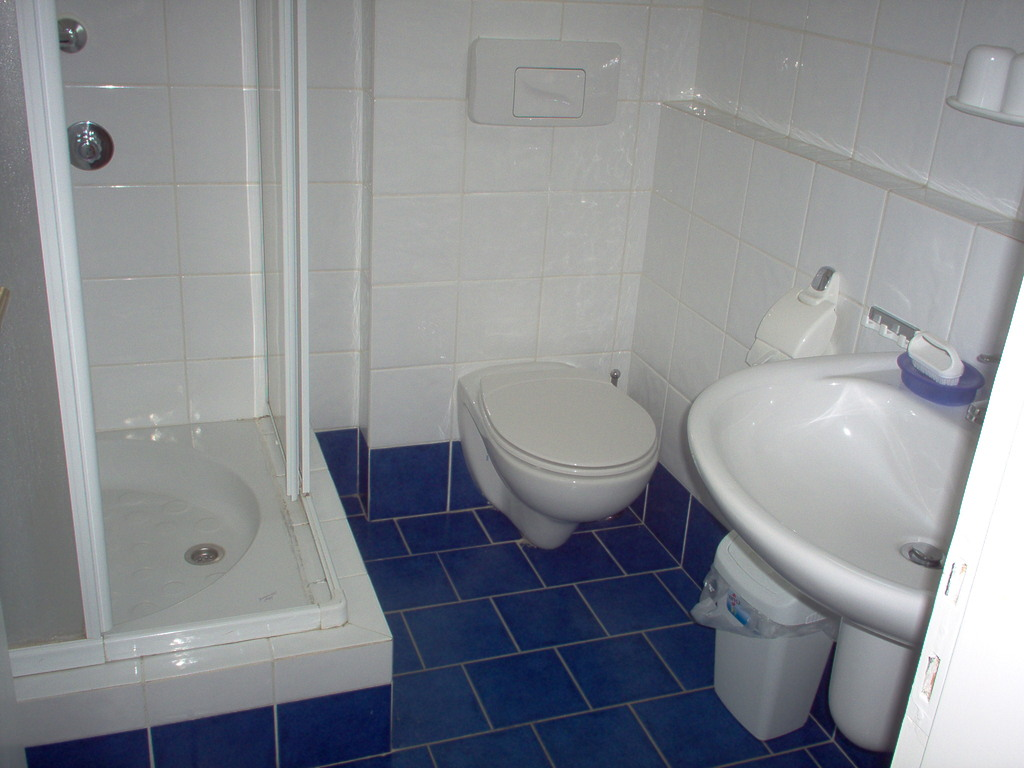tap: (965, 351, 996, 427)
